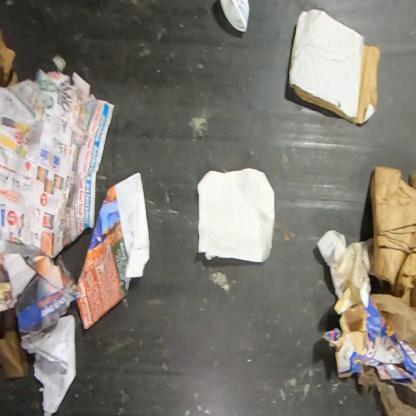cardboard: (288, 8, 381, 124), (321, 282, 415, 394), (369, 166, 415, 310), (0, 308, 29, 380), (0, 27, 19, 89)
rigid_plastic: (219, 0, 251, 33)
